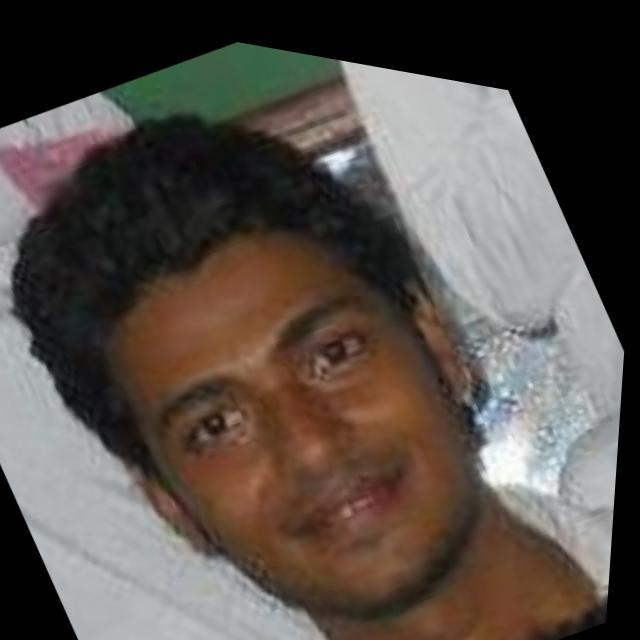Nonhelmet: (6, 104, 602, 634)
